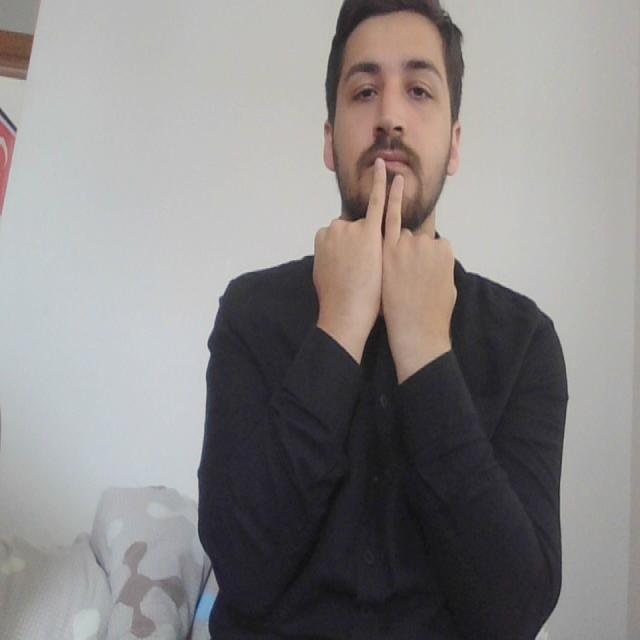Kardes: (310, 156, 462, 376)
